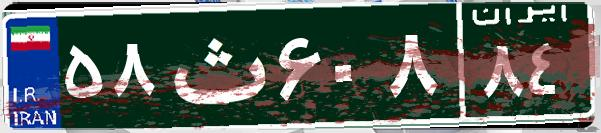0: (330, 28, 385, 110)
4: (525, 38, 570, 115)
5: (57, 26, 110, 107)
6: (273, 28, 330, 110)
8: (385, 28, 445, 110), (475, 38, 525, 113), (110, 28, 158, 105)
ث: (158, 15, 273, 115)
